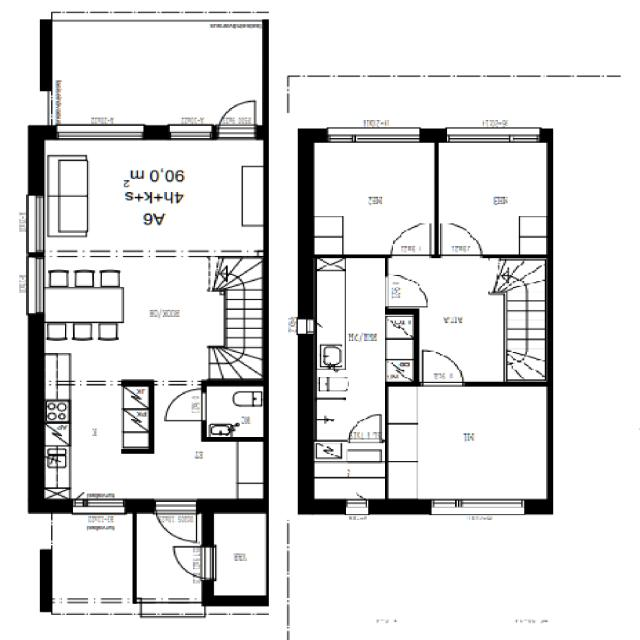door: (154, 499, 196, 550), (216, 90, 257, 139), (422, 346, 463, 387), (164, 546, 213, 578), (441, 219, 482, 257), (391, 220, 431, 257), (163, 388, 206, 421), (384, 274, 425, 306), (348, 410, 382, 442)
